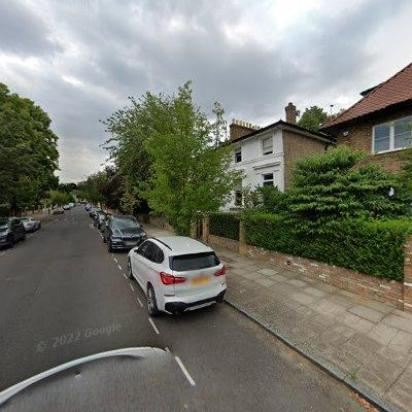stationary-car-onstreet: (126, 235, 230, 319), (102, 215, 148, 253), (0, 215, 28, 250), (18, 216, 42, 232), (94, 212, 112, 230), (90, 207, 102, 217), (53, 207, 63, 215), (63, 204, 70, 210)
stationary-light-truck-onstreet: (69, 202, 75, 208)
